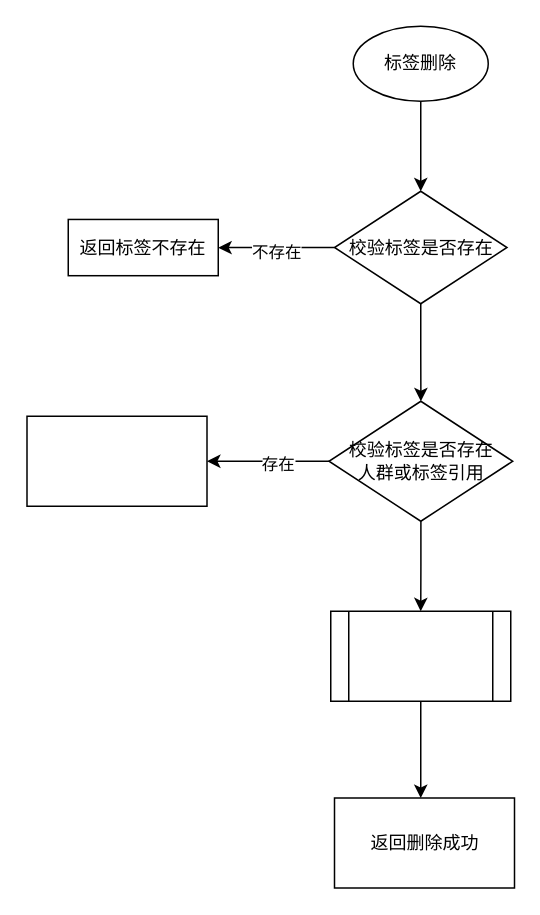
This 540x915 diagram has some shape labels left out. Here are the shapes that lost their labels. From the top down, the centre of each, then its label:
(116,460): 返回引用标签人群 不可删除
(420,655): 软删除基础信表 标签状态
